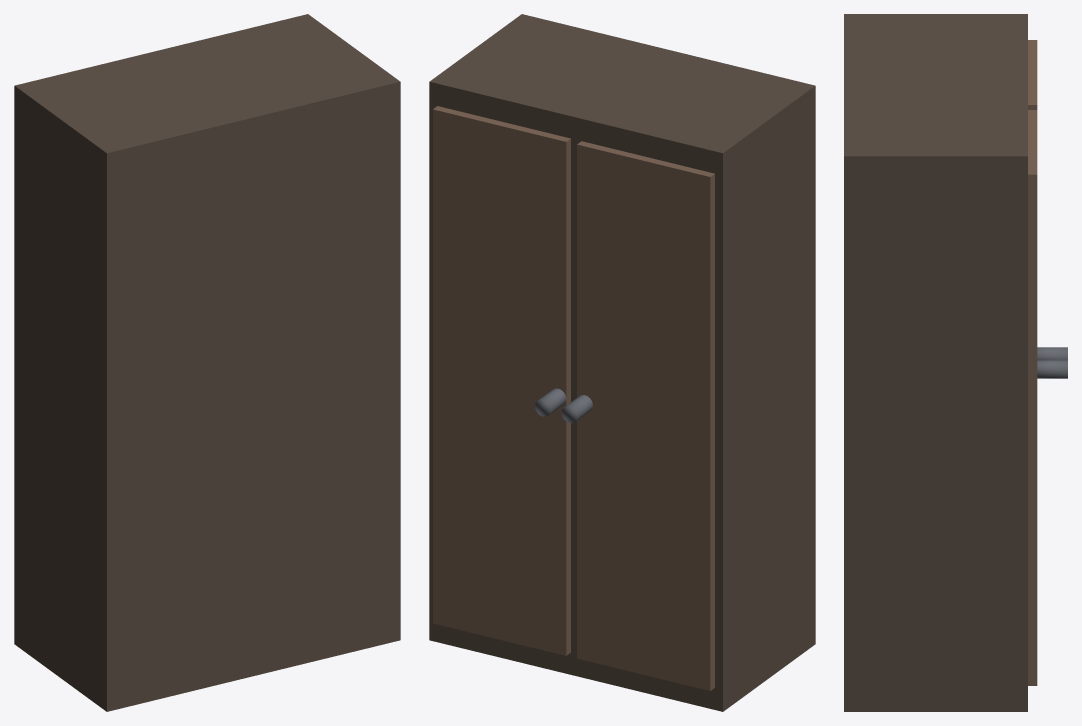
The model's file is prop_locker.glb.
The picture shows the model from 3 angles, left to right: view 1: azimuth 30°, elevation 25°; view 2: azimuth 150°, elevation 25°; view 3: azimuth 270°, elevation 25°; orthographic projection.
Visible parts, largest first — view 1: locker; view 2: locker; view 3: locker.
Part boxes in pixels (bbox=[...]): locker: bbox=[14, 14, 400, 711]; locker: bbox=[429, 14, 815, 711]; locker: bbox=[844, 14, 1067, 711].
Bounding box in the file's own units: 1.1 × 2 × 0.73.
